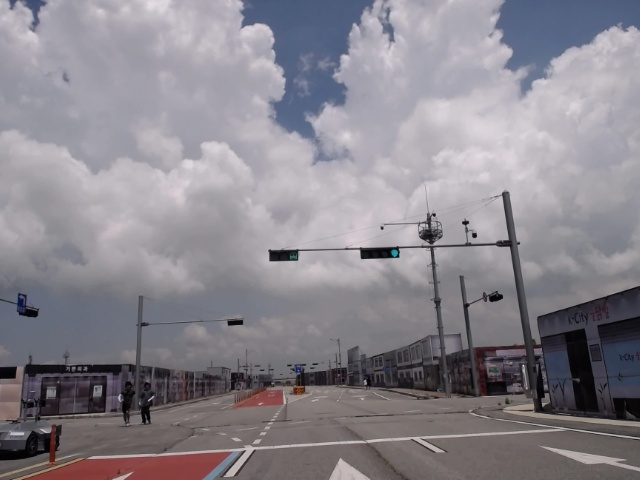straight_green_4: (359, 249, 401, 260)
